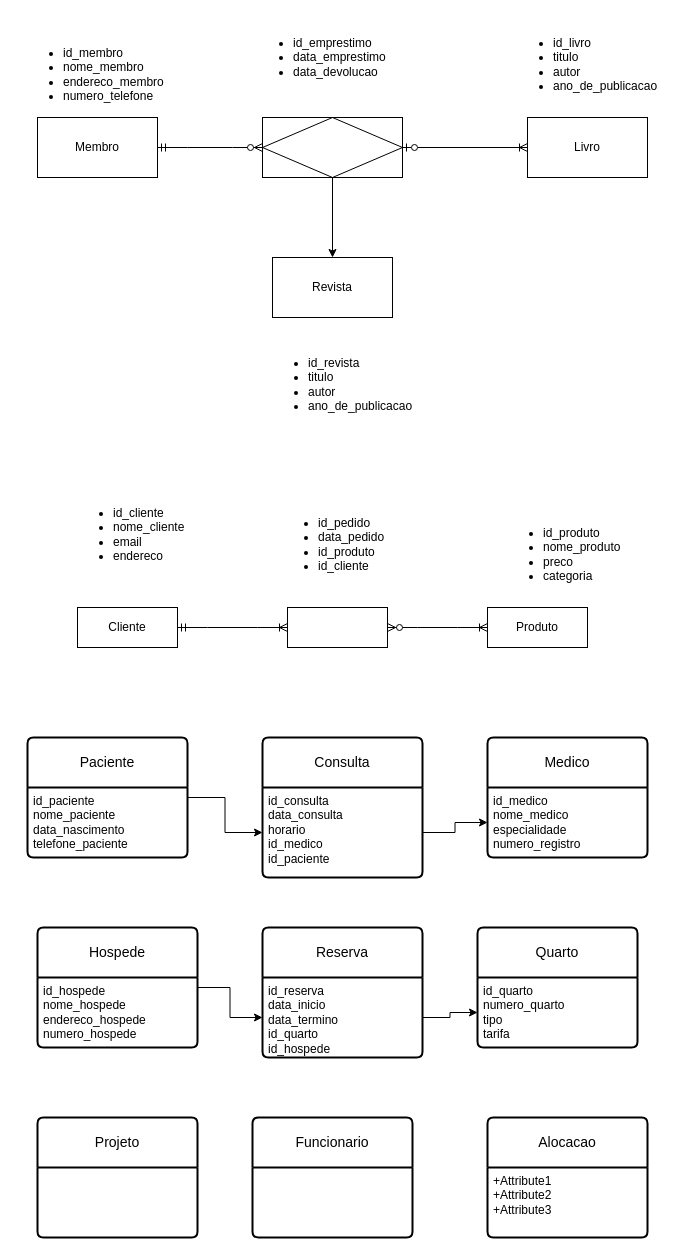
Image size: 694x1255. Some labels were removed from this diagram. The shapes that lost their labels are listed below. From the top down, each one's centre as x and y in pixels, then its label:
At point (332, 147): "Empréstimo".
At point (337, 627): "Pedido".
